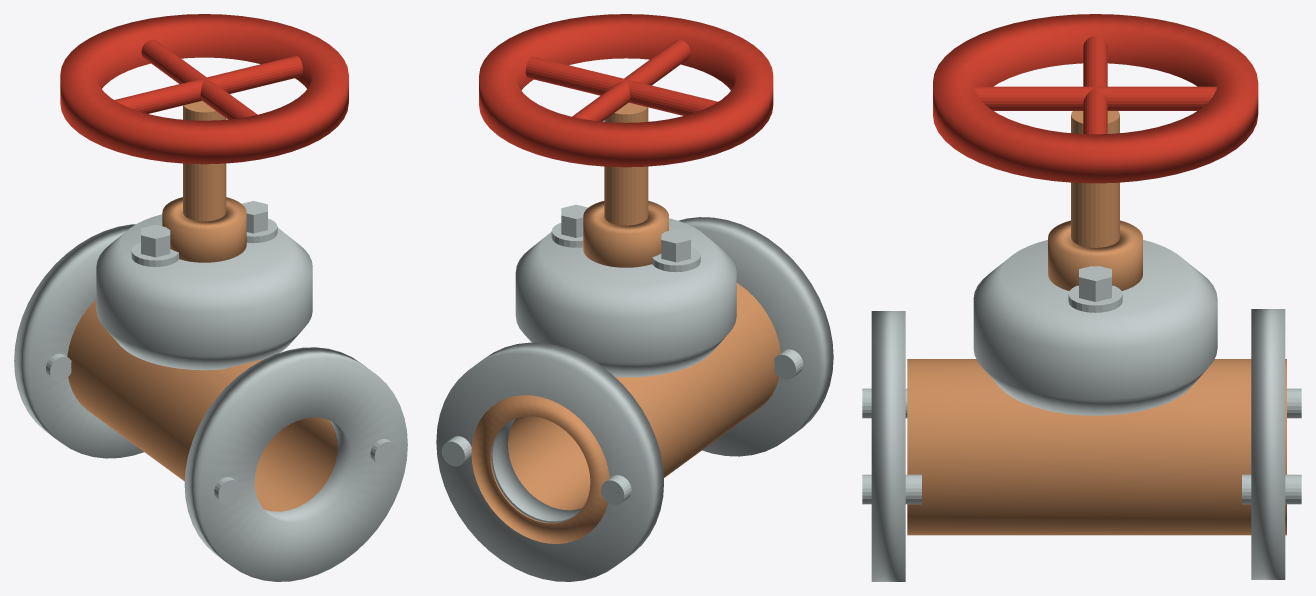
Rendered from generation-ship-hydroponics-generation-ship-hydroponic-3cfd10fa__31493.glb.
3 renders of one model, left to right at view 1: azimuth 30°, elevation 25°; view 2: azimuth 150°, elevation 25°; view 3: azimuth 270°, elevation 25°, orthographic. The views are drawn at different scales.
Visible parts, largest first — view 1: generation-ship-hydroponics-isolation-valve; view 2: generation-ship-hydroponics-isolation-valve; view 3: generation-ship-hydroponics-isolation-valve.
Part boxes in pixels (box(x1,y1,x2,y2)): generation-ship-hydroponics-isolation-valve: box(14, 14, 407, 581); generation-ship-hydroponics-isolation-valve: box(436, 14, 833, 581); generation-ship-hydroponics-isolation-valve: box(862, 14, 1301, 581).
Bounding box in the file's own units: 0.24 × 0.396 × 0.324.
